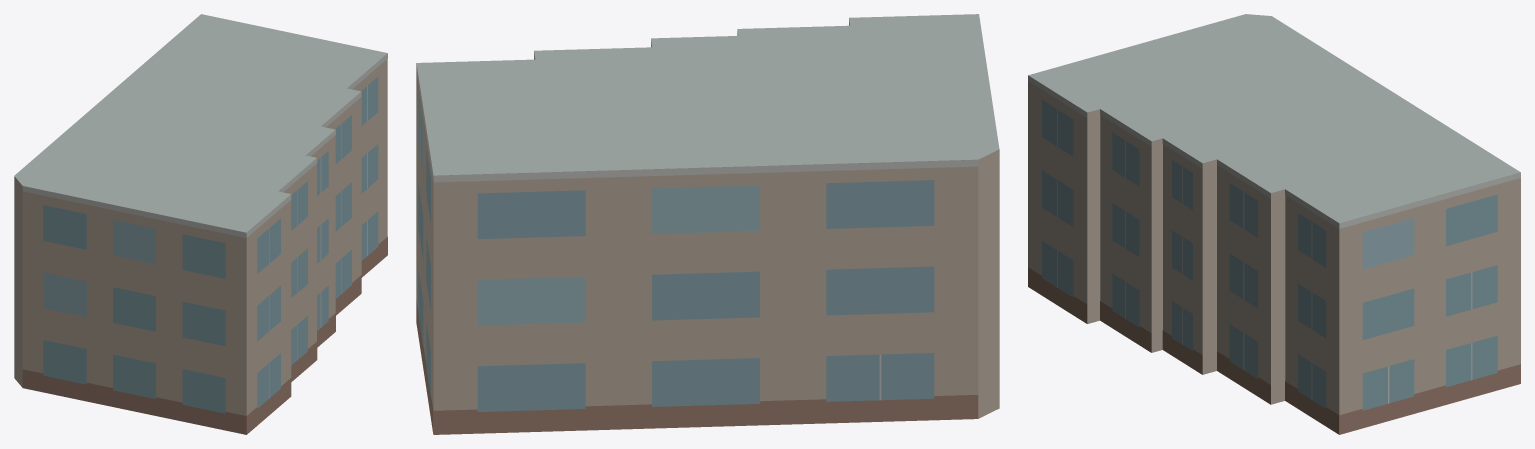
The model's file is survey-upis-32850385.glb.
The picture shows the model from 3 angles, left to right: view 1: azimuth 30°, elevation 25°; view 2: azimuth 150°, elevation 25°; view 3: azimuth 270°, elevation 25°; orthographic projection. The views are drawn at different scales.
Parts seen in each view (by area): view 1: survey-upis-32850385.tmp; view 2: survey-upis-32850385.tmp; view 3: survey-upis-32850385.tmp.
Part boxes in pixels (x1,y1,x2,y2): survey-upis-32850385.tmp: [14, 14, 387, 434]; survey-upis-32850385.tmp: [416, 14, 999, 434]; survey-upis-32850385.tmp: [1028, 14, 1520, 434].
Bounding box in the file's own units: 19.42 × 9.15 × 19.32.
